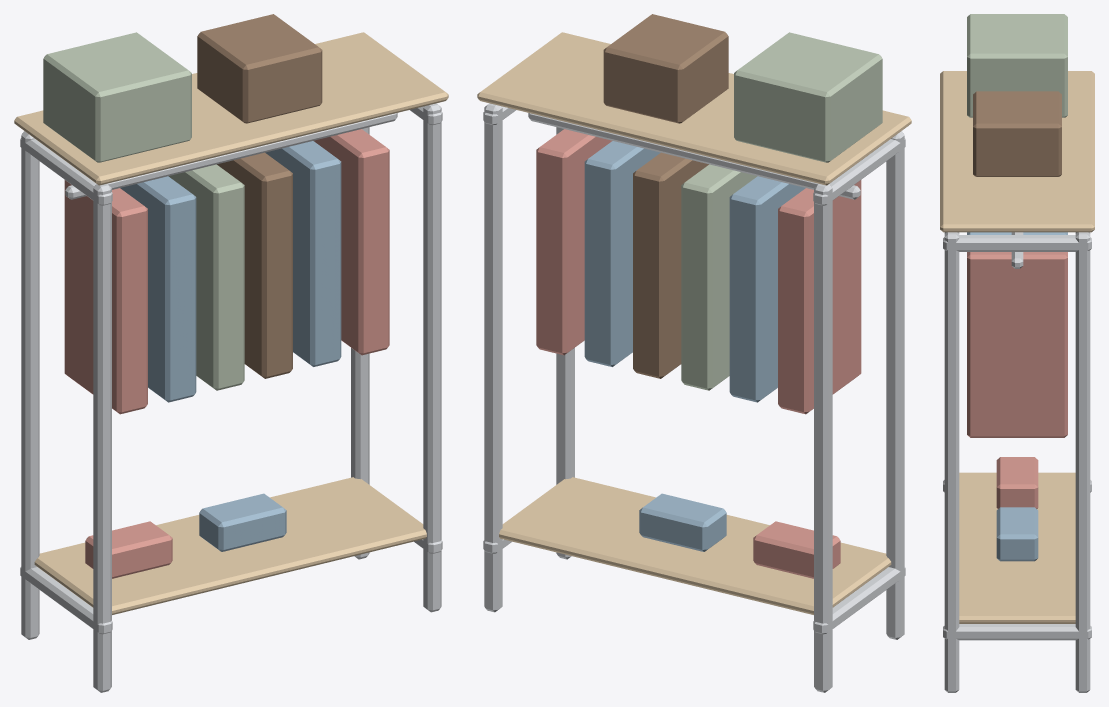
Rendered from OpenClothesRail.glb.
3 views of the same model, side by side, from view 1: azimuth 30°, elevation 25°; view 2: azimuth 150°, elevation 25°; view 3: azimuth 270°, elevation 25° (orthographic). The views are drawn at different scales.
Visible parts, largest first — view 1: OpenClothesRail_Body; view 2: OpenClothesRail_Body; view 3: OpenClothesRail_Body.
Part boxes in pixels (x1,y1,x2,y2): OpenClothesRail_Body: [14, 14, 448, 692]; OpenClothesRail_Body: [477, 14, 911, 692]; OpenClothesRail_Body: [940, 14, 1094, 692].
Bounding box in the file's own units: 1.24 × 1.98 × 0.52.
